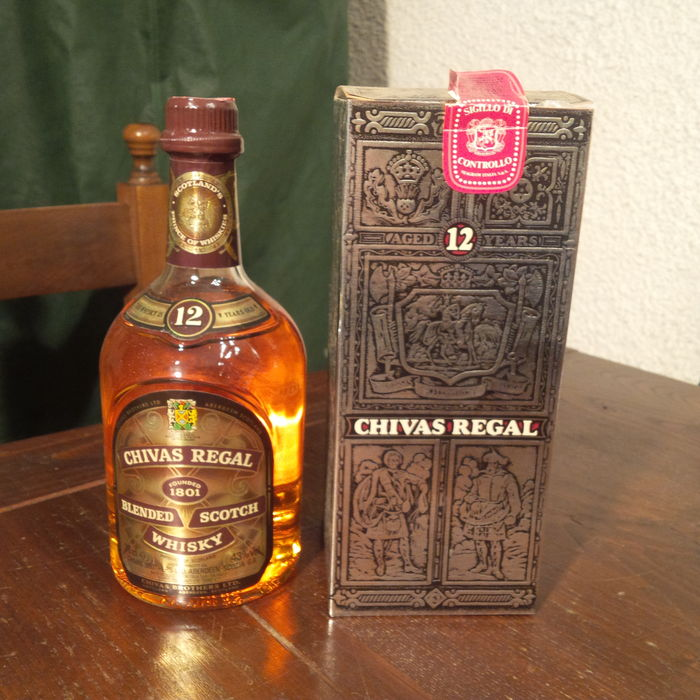Chivas Regal: (93, 91, 313, 614)
